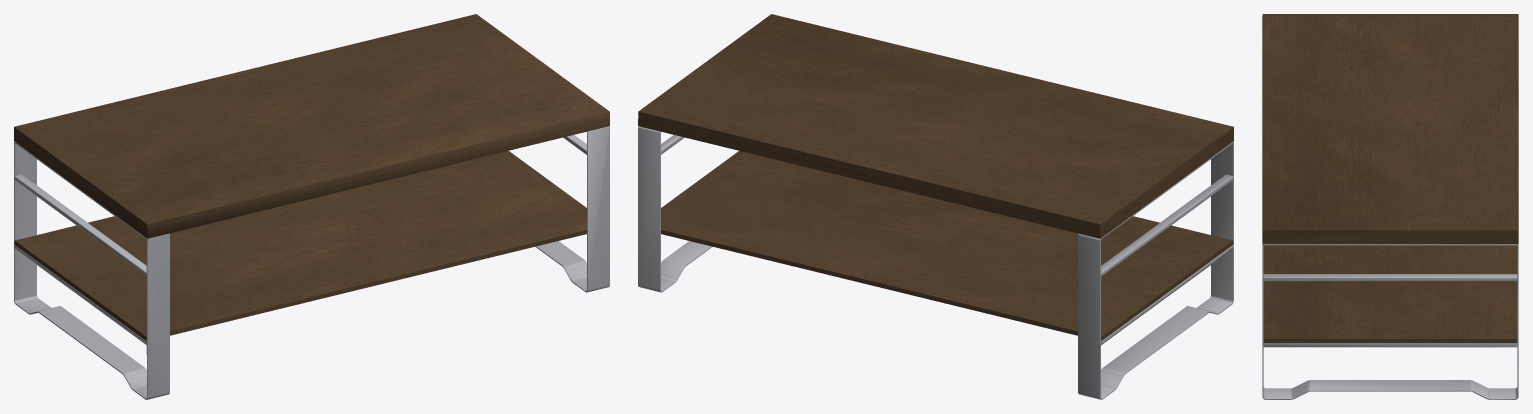
File: simready-table-coffee-low.6aa1ed3d.glb
3 views of the same model, side by side, from view 1: azimuth 30°, elevation 25°; view 2: azimuth 150°, elevation 25°; view 3: azimuth 270°, elevation 25° (orthographic). The views are drawn at different scales.
Visible parts, largest first — view 1: model; view 2: model; view 3: model.
Boxes of the visible parts, bbox=[...] form: model: bbox=[14, 14, 609, 399]; model: bbox=[638, 14, 1233, 399]; model: bbox=[1262, 14, 1518, 399].
Bounding box in the file's own units: 1.2 × 0.4427 × 0.6.
3 materials, 3 textured.
